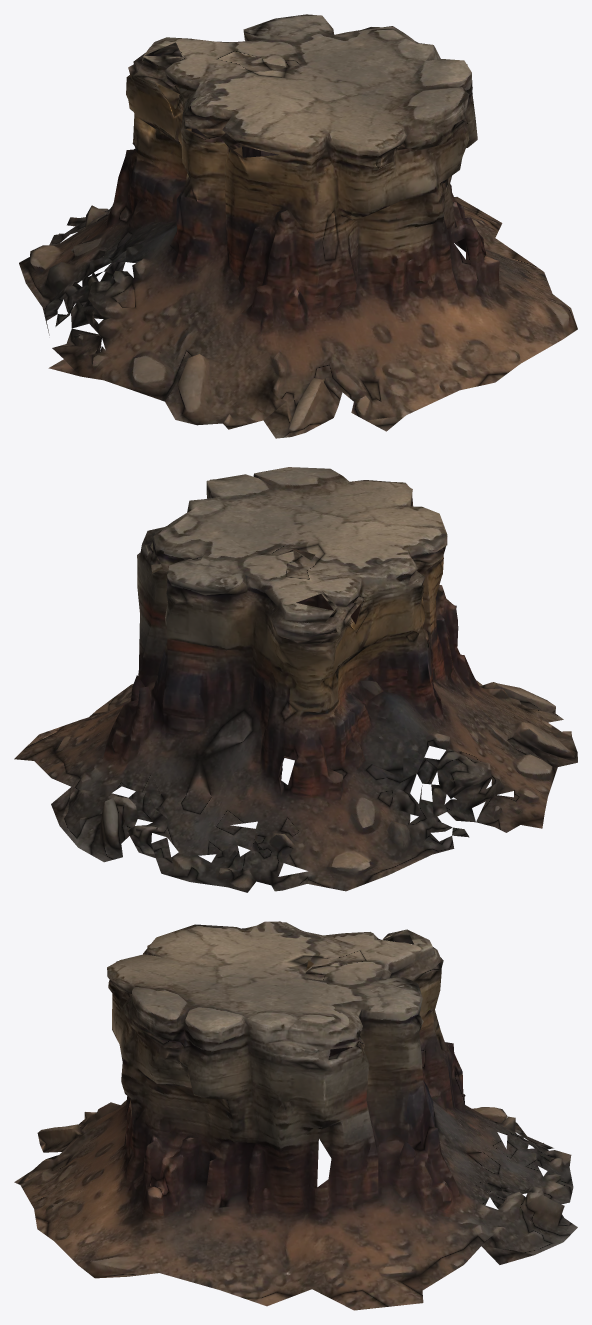
File: desert-mountain-1.glb
3 views of the same model, one above another, from view 1: azimuth 30°, elevation 25°; view 2: azimuth 150°, elevation 25°; view 3: azimuth 270°, elevation 25° (orthographic). The views are drawn at different scales.
Visible parts, largest first — view 1: geometry_0; view 2: geometry_0; view 3: geometry_0.
Part boxes in pixels (bbox=[...]): geometry_0: bbox=[19, 14, 577, 438]; geometry_0: bbox=[14, 467, 577, 892]; geometry_0: bbox=[14, 921, 577, 1310].
Bounding box in the file's own units: 0.91 × 0.4434 × 0.9353.
1 material, 1 textured.
